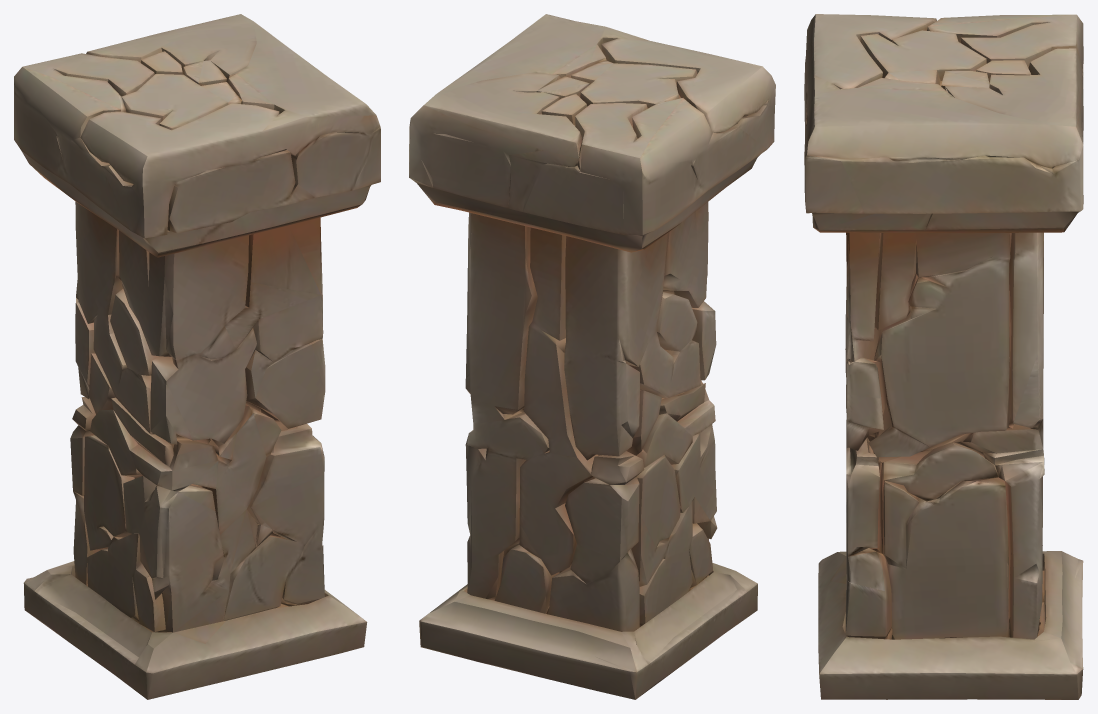
The model's file is m2ArenaPillar.glb.
The picture shows the model from 3 angles, left to right: view 1: azimuth 30°, elevation 25°; view 2: azimuth 150°, elevation 25°; view 3: azimuth 270°, elevation 25°; orthographic projection. The views are drawn at different scales.
Parts seen in each view (by area): view 1: model; view 2: model; view 3: model.
Boxes of the visible parts, x1,y1,x2,y2 form: model: (14,14,380,699); model: (409,14,775,699); model: (804,14,1083,699).
Size of the model in its own units: 0.8791 by 1.89 by 0.8334.
Materials: 1 (1 with a texture image).
